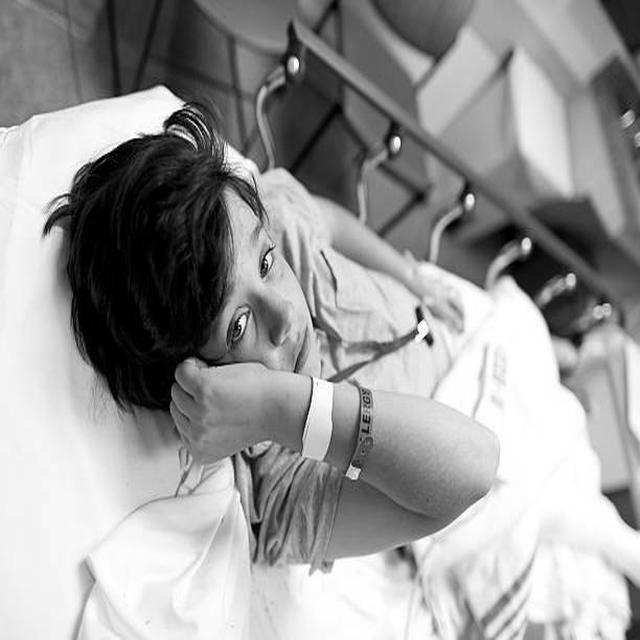Sadness: (193, 187, 320, 393)
